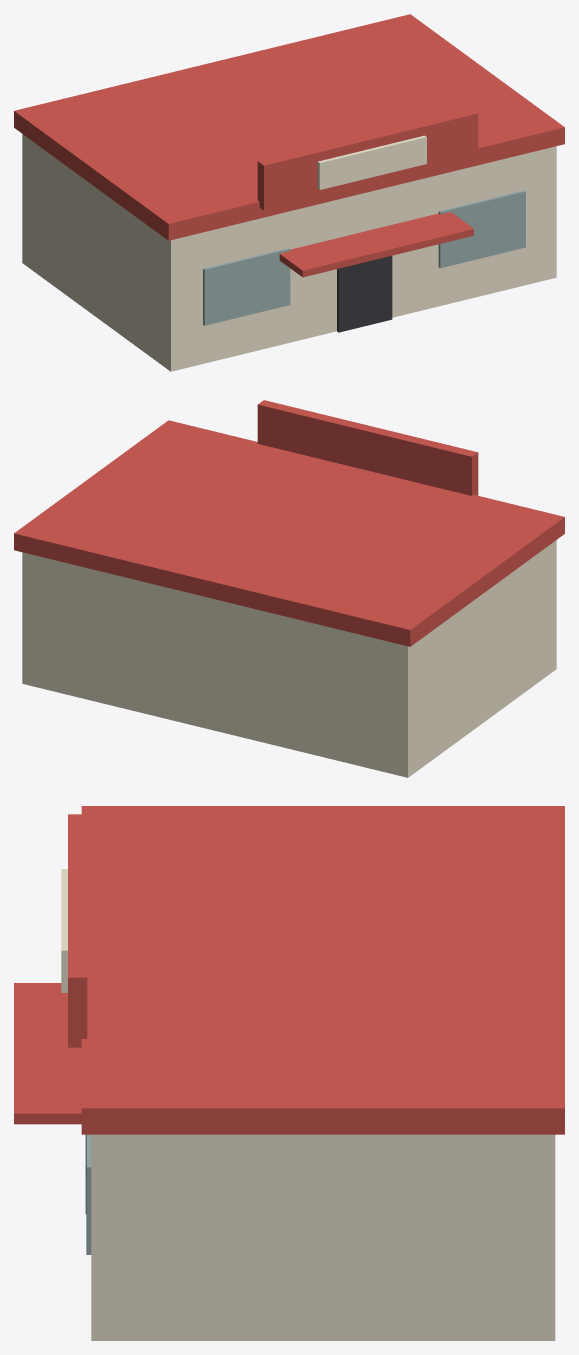
The model's file is SM_Pizzeria.fbx.
3 views of the same model, one above another, from view 1: azimuth 30°, elevation 25°; view 2: azimuth 150°, elevation 25°; view 3: azimuth 270°, elevation 25° (orthographic). The views are drawn at different scales.
Visible parts, largest first — view 1: SM_Pizzeria; view 2: SM_Pizzeria; view 3: SM_Pizzeria.
Boxes of the visible parts, left/top/right/bottom form: SM_Pizzeria: left=14, top=14, right=564, bottom=371; SM_Pizzeria: left=14, top=400, right=564, bottom=777; SM_Pizzeria: left=14, top=806, right=564, bottom=1340.
Bounding box in the file's own units: 3700 × 1700 × 2850.
